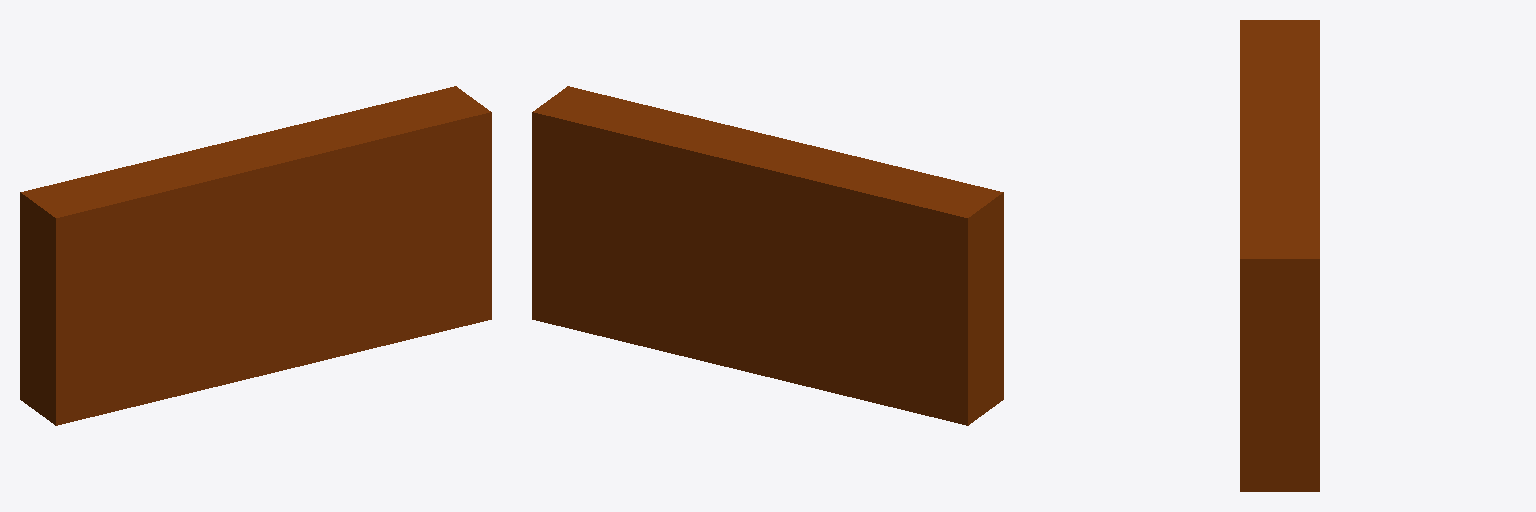
The robot description file, URDF, robot "handle_head":
<?xml version="1.0"?>
<robot name="handle_head">

  <link name="handle_head">
    <!-- Handle -->
    <visual>
      <origin xyz="0 0 0" rpy="0 0 0"/>
      <geometry>
        <box size="0.14231138249604242 0.020109375392072932 0.06480861232962344"/>
      </geometry>
      <material name="brown">
        <color rgba="0.55 0.27 0.07 1.0"/>
      </material>
    </visual>
    <collision>
      <origin xyz="0 0 0" rpy="0 0 0"/>
      <geometry>
        <box size="0.14231138249604242 0.020109375392072932 0.06480861232962344"/>
      </geometry>
    </collision>

    <inertial>
      <origin xyz="0 0 0" rpy="0 0 0"/>
      <mass value="0.06314733365600389"/>
      <inertia ixx="2.423038553856364e-05" iyy="0.00012867682585521967" izz="0.00010870243356124649" ixy="0" ixz="0" iyz="0"/>
    </inertial>
  </link>

</robot>

--- What the picture shows (computed from the rendered views, not written in the file) ---
Views: 3 orthographic renders of the robot side by side, from view 1: azimuth 30°, elevation 25°; view 2: azimuth 150°, elevation 25°; view 3: azimuth 270°, elevation 25°.
Robot: handle_head — 1 links, 0 joints (none); root link handle_head; default pose: all joints at 0.
Links seen in each view (by area): view 1: handle_head; view 2: handle_head; view 3: handle_head.
Boxes of the visible links, x1=… form: handle_head: x1=20, y1=86, x2=491, y2=425; handle_head: x1=532, y1=86, x2=1003, y2=425; handle_head: x1=1240, y1=20, x2=1319, y2=491.
Bounding box of the posed robot: 0.1423 × 0.0201 × 0.0648 m (x, y, z).
Geometry: primitives only (box / cylinder / sphere), no mesh files.
